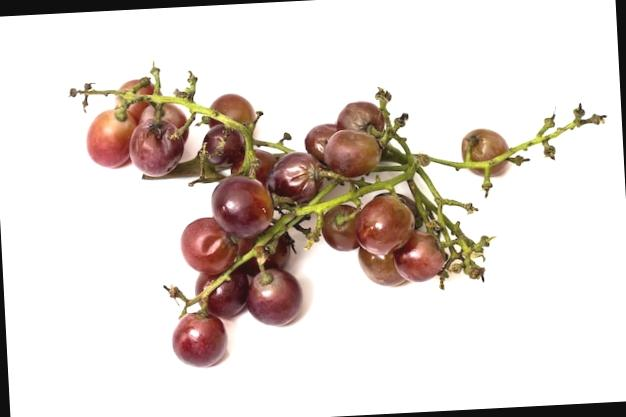Grape Rotten: (68, 38, 617, 374)
